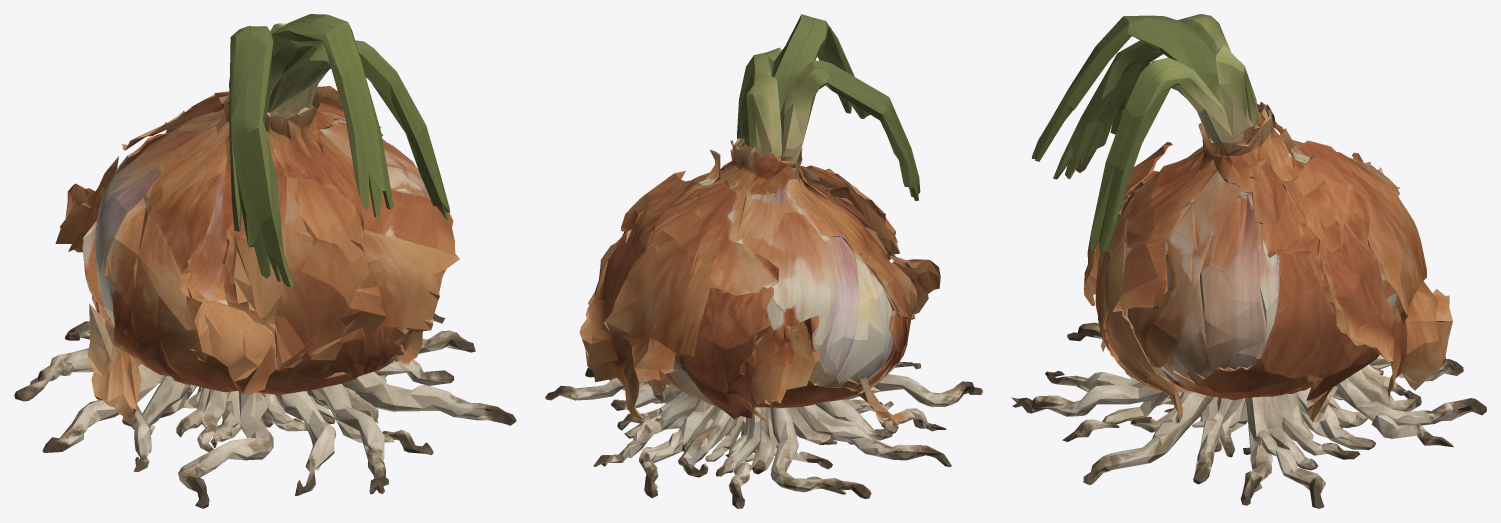
3 views of the same model, side by side, from view 1: azimuth 30°, elevation 25°; view 2: azimuth 150°, elevation 25°; view 3: azimuth 270°, elevation 25° (orthographic). The views are drawn at different scales.
Bounding box in the file's own units: 1.88 × 1.74 × 1.89.
Materials: 1 (1 with a texture image).
